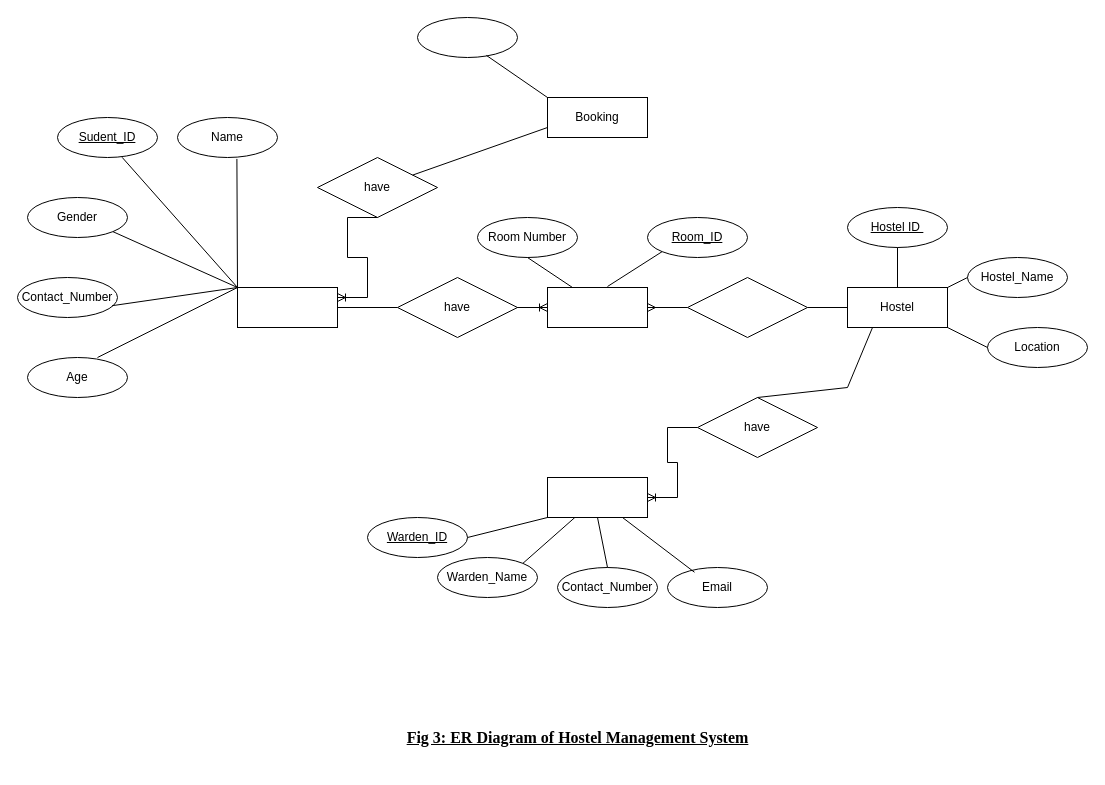
Some shapes in this 1105 by 785 pixel diagram are drawn without their labels. Each missing label, with the centre of its shape:
"belongs to" belongs at (747,307).
"Booking_ID" belongs at (467,37).
"Room" belongs at (597,307).
"Student" belongs at (287,307).
"Warden" belongs at (597,497).
